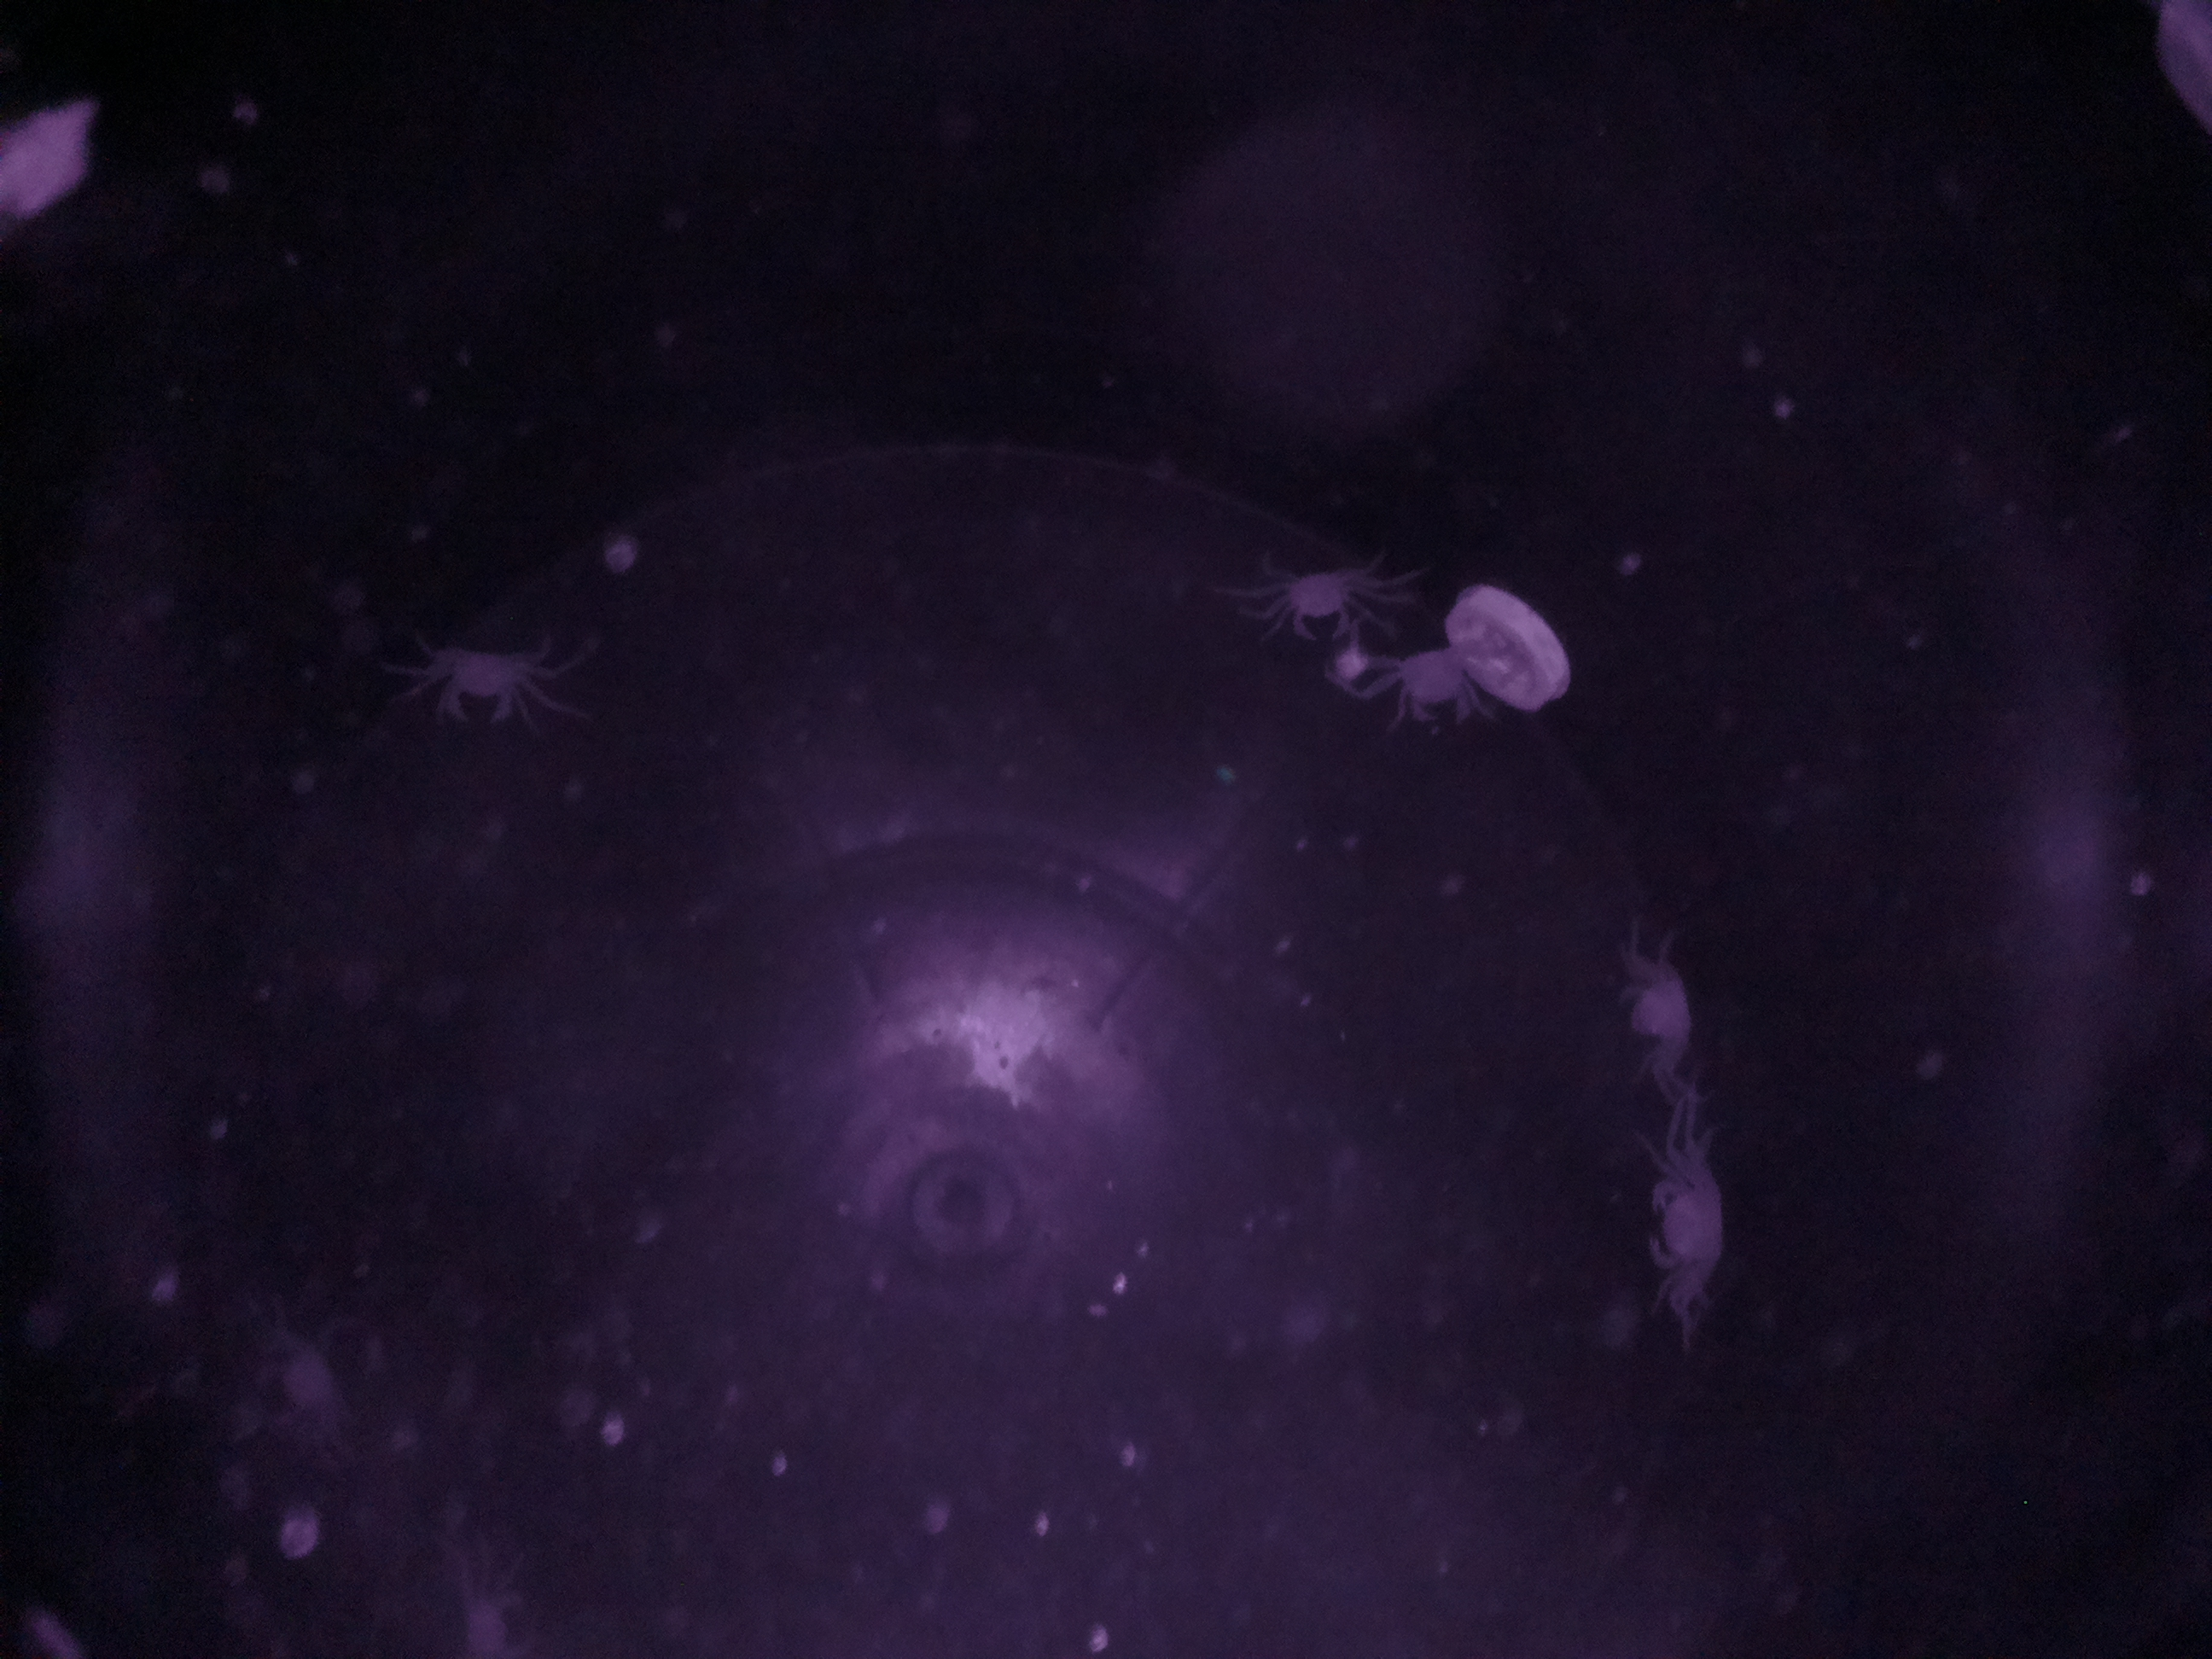Crab: (1627, 1154, 1742, 1291), (1372, 636, 1482, 742), (432, 626, 533, 735), (1270, 544, 1360, 655)
